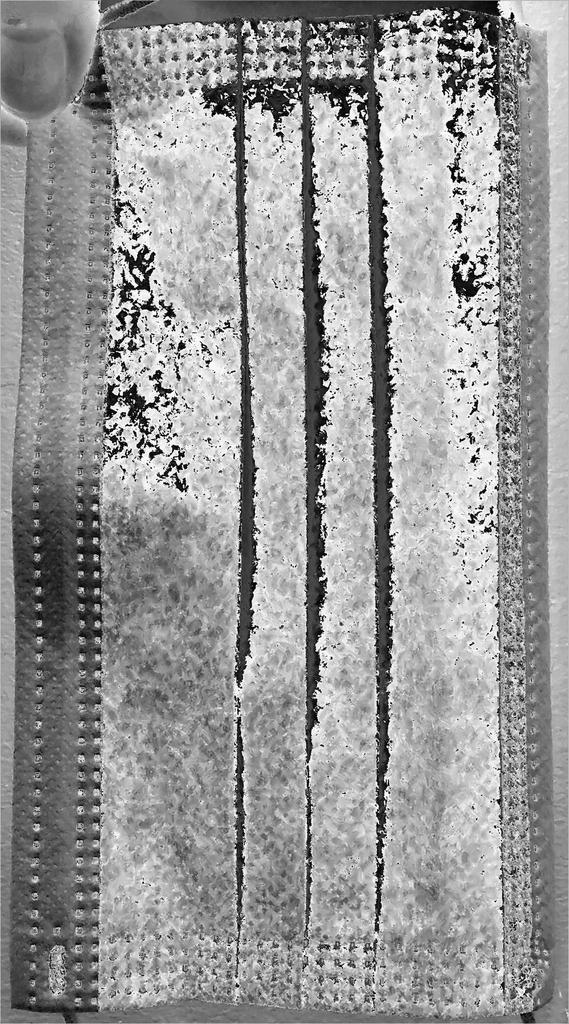High GSM: (111, 86, 500, 519)
